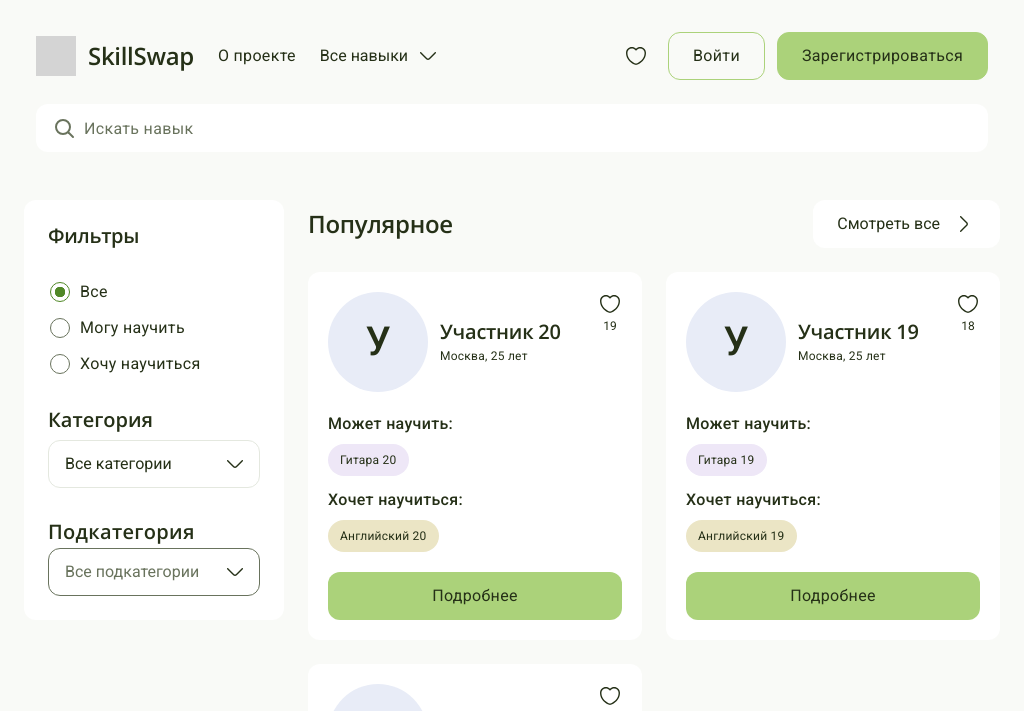
CatalogPage filters › opens results for category alone with an empty search
Expected: the heading "Популярное" is shown, [308, 207, 453, 240]
Expected: the search field is empty, [36, 104, 988, 152]
Select "Иностранные языки" in the dropdown labelled "Категория": (154, 464) [48, 440, 260, 488]
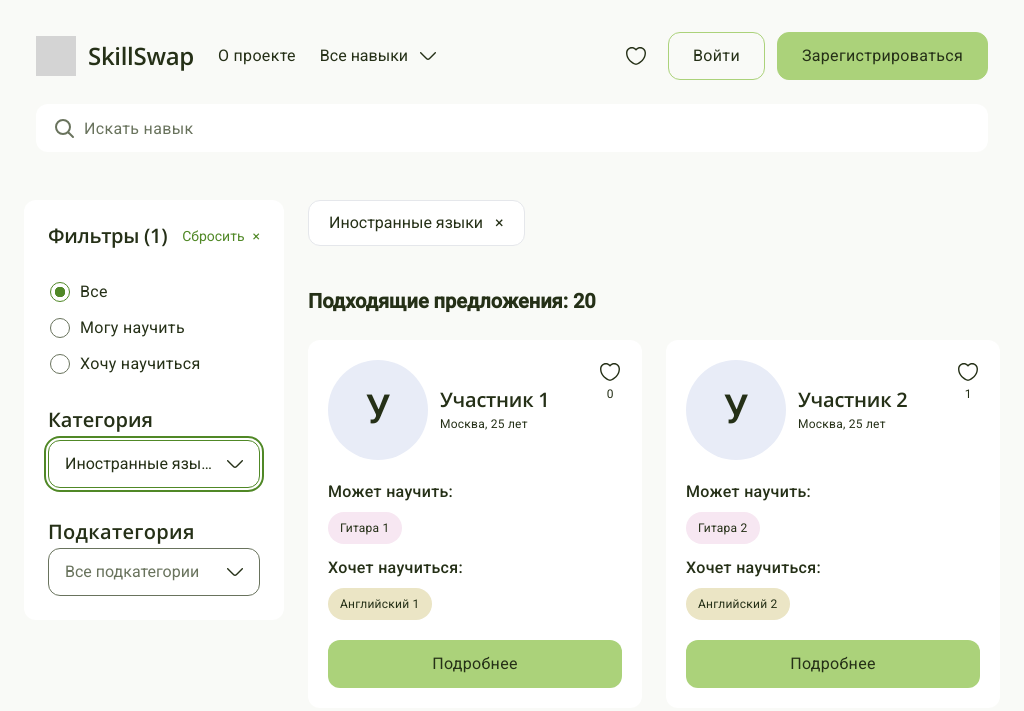
Expected: the heading "Участник 1" is shown, [440, 386, 550, 413]
Now the heading "Популярное" is gone
Now the text "Подходящие предложения: 20" is shown, box [308, 289, 596, 313]
